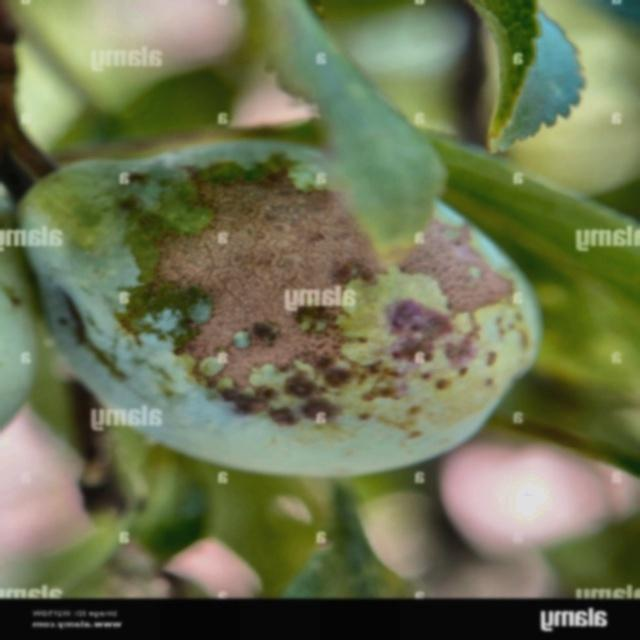shot_hole: (7, 119, 556, 488)
